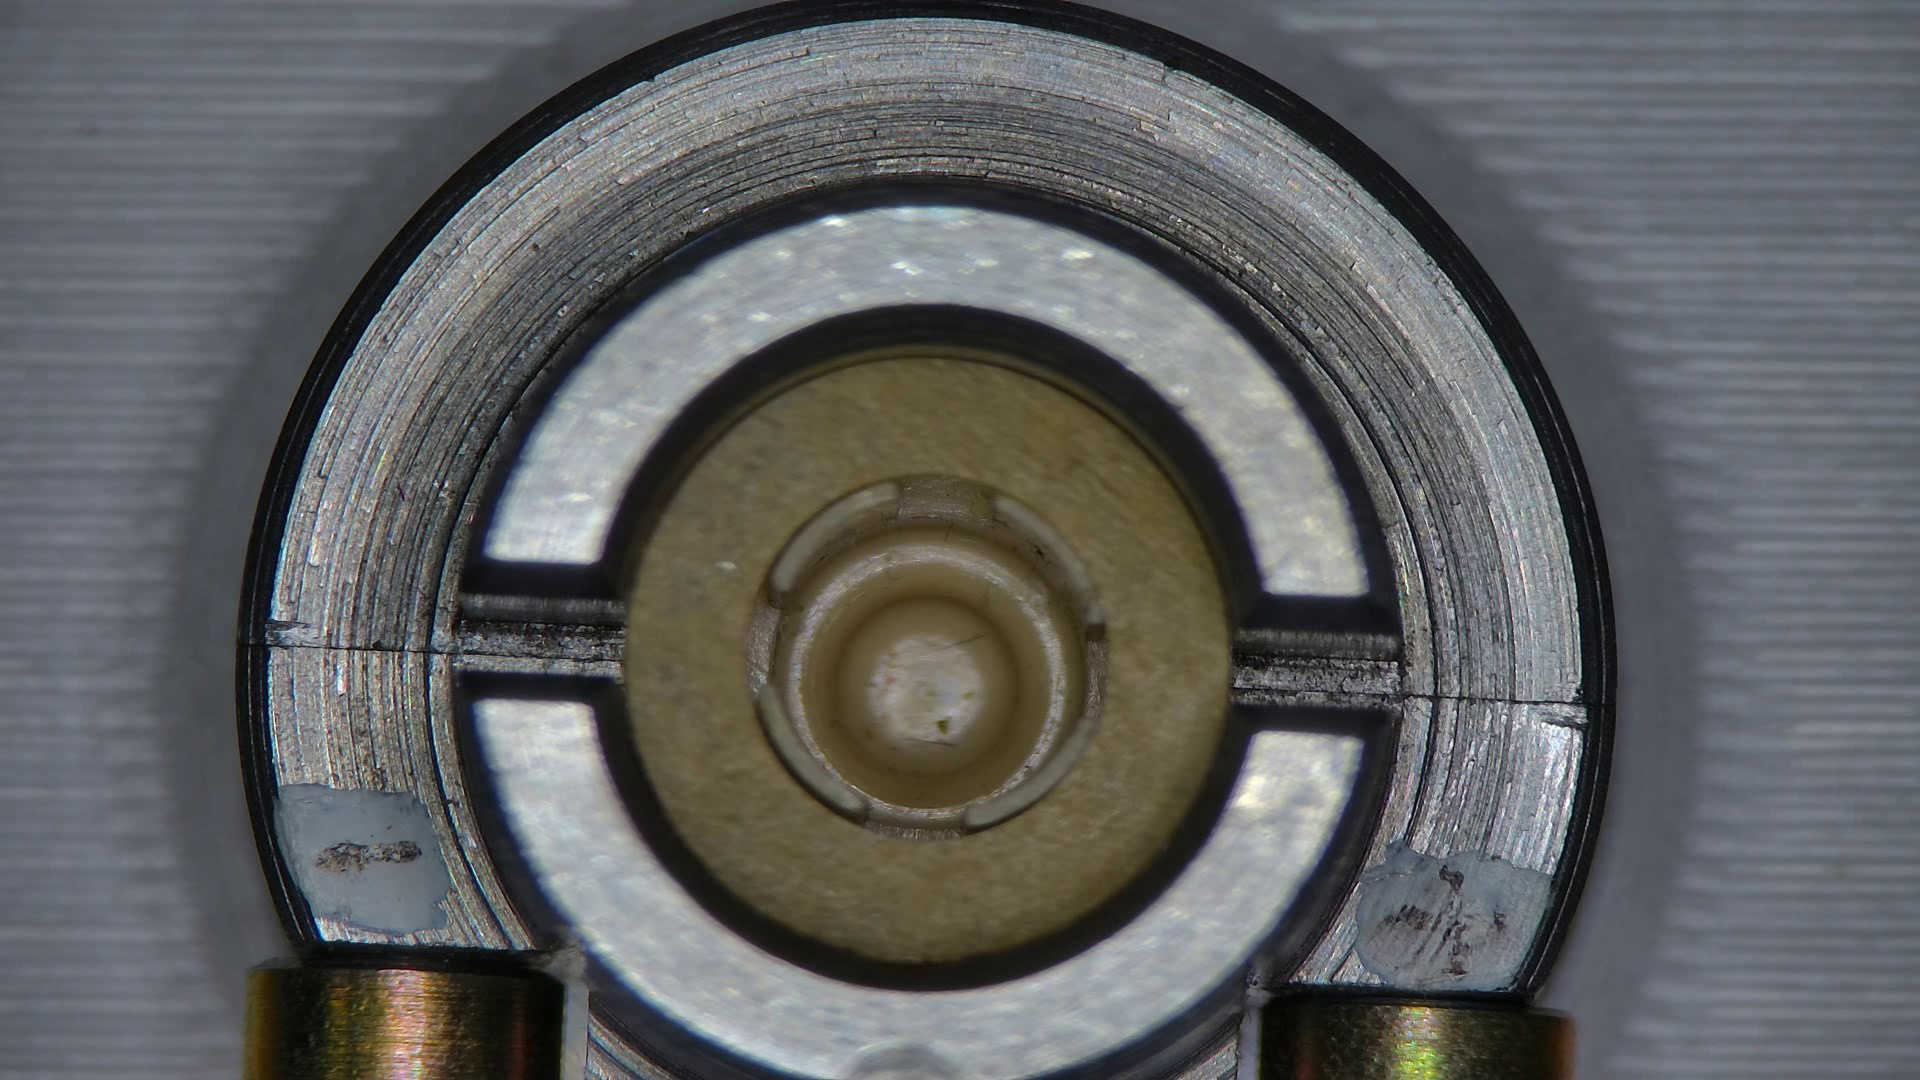redOring: (626, 356, 1230, 959)
